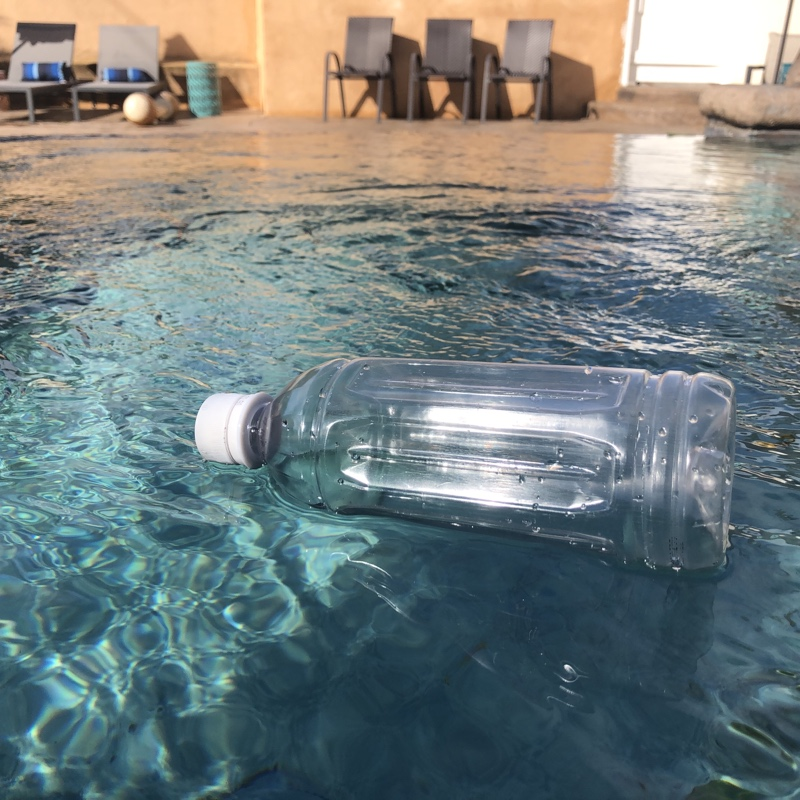Plastic Bottle: (190, 351, 742, 590)
